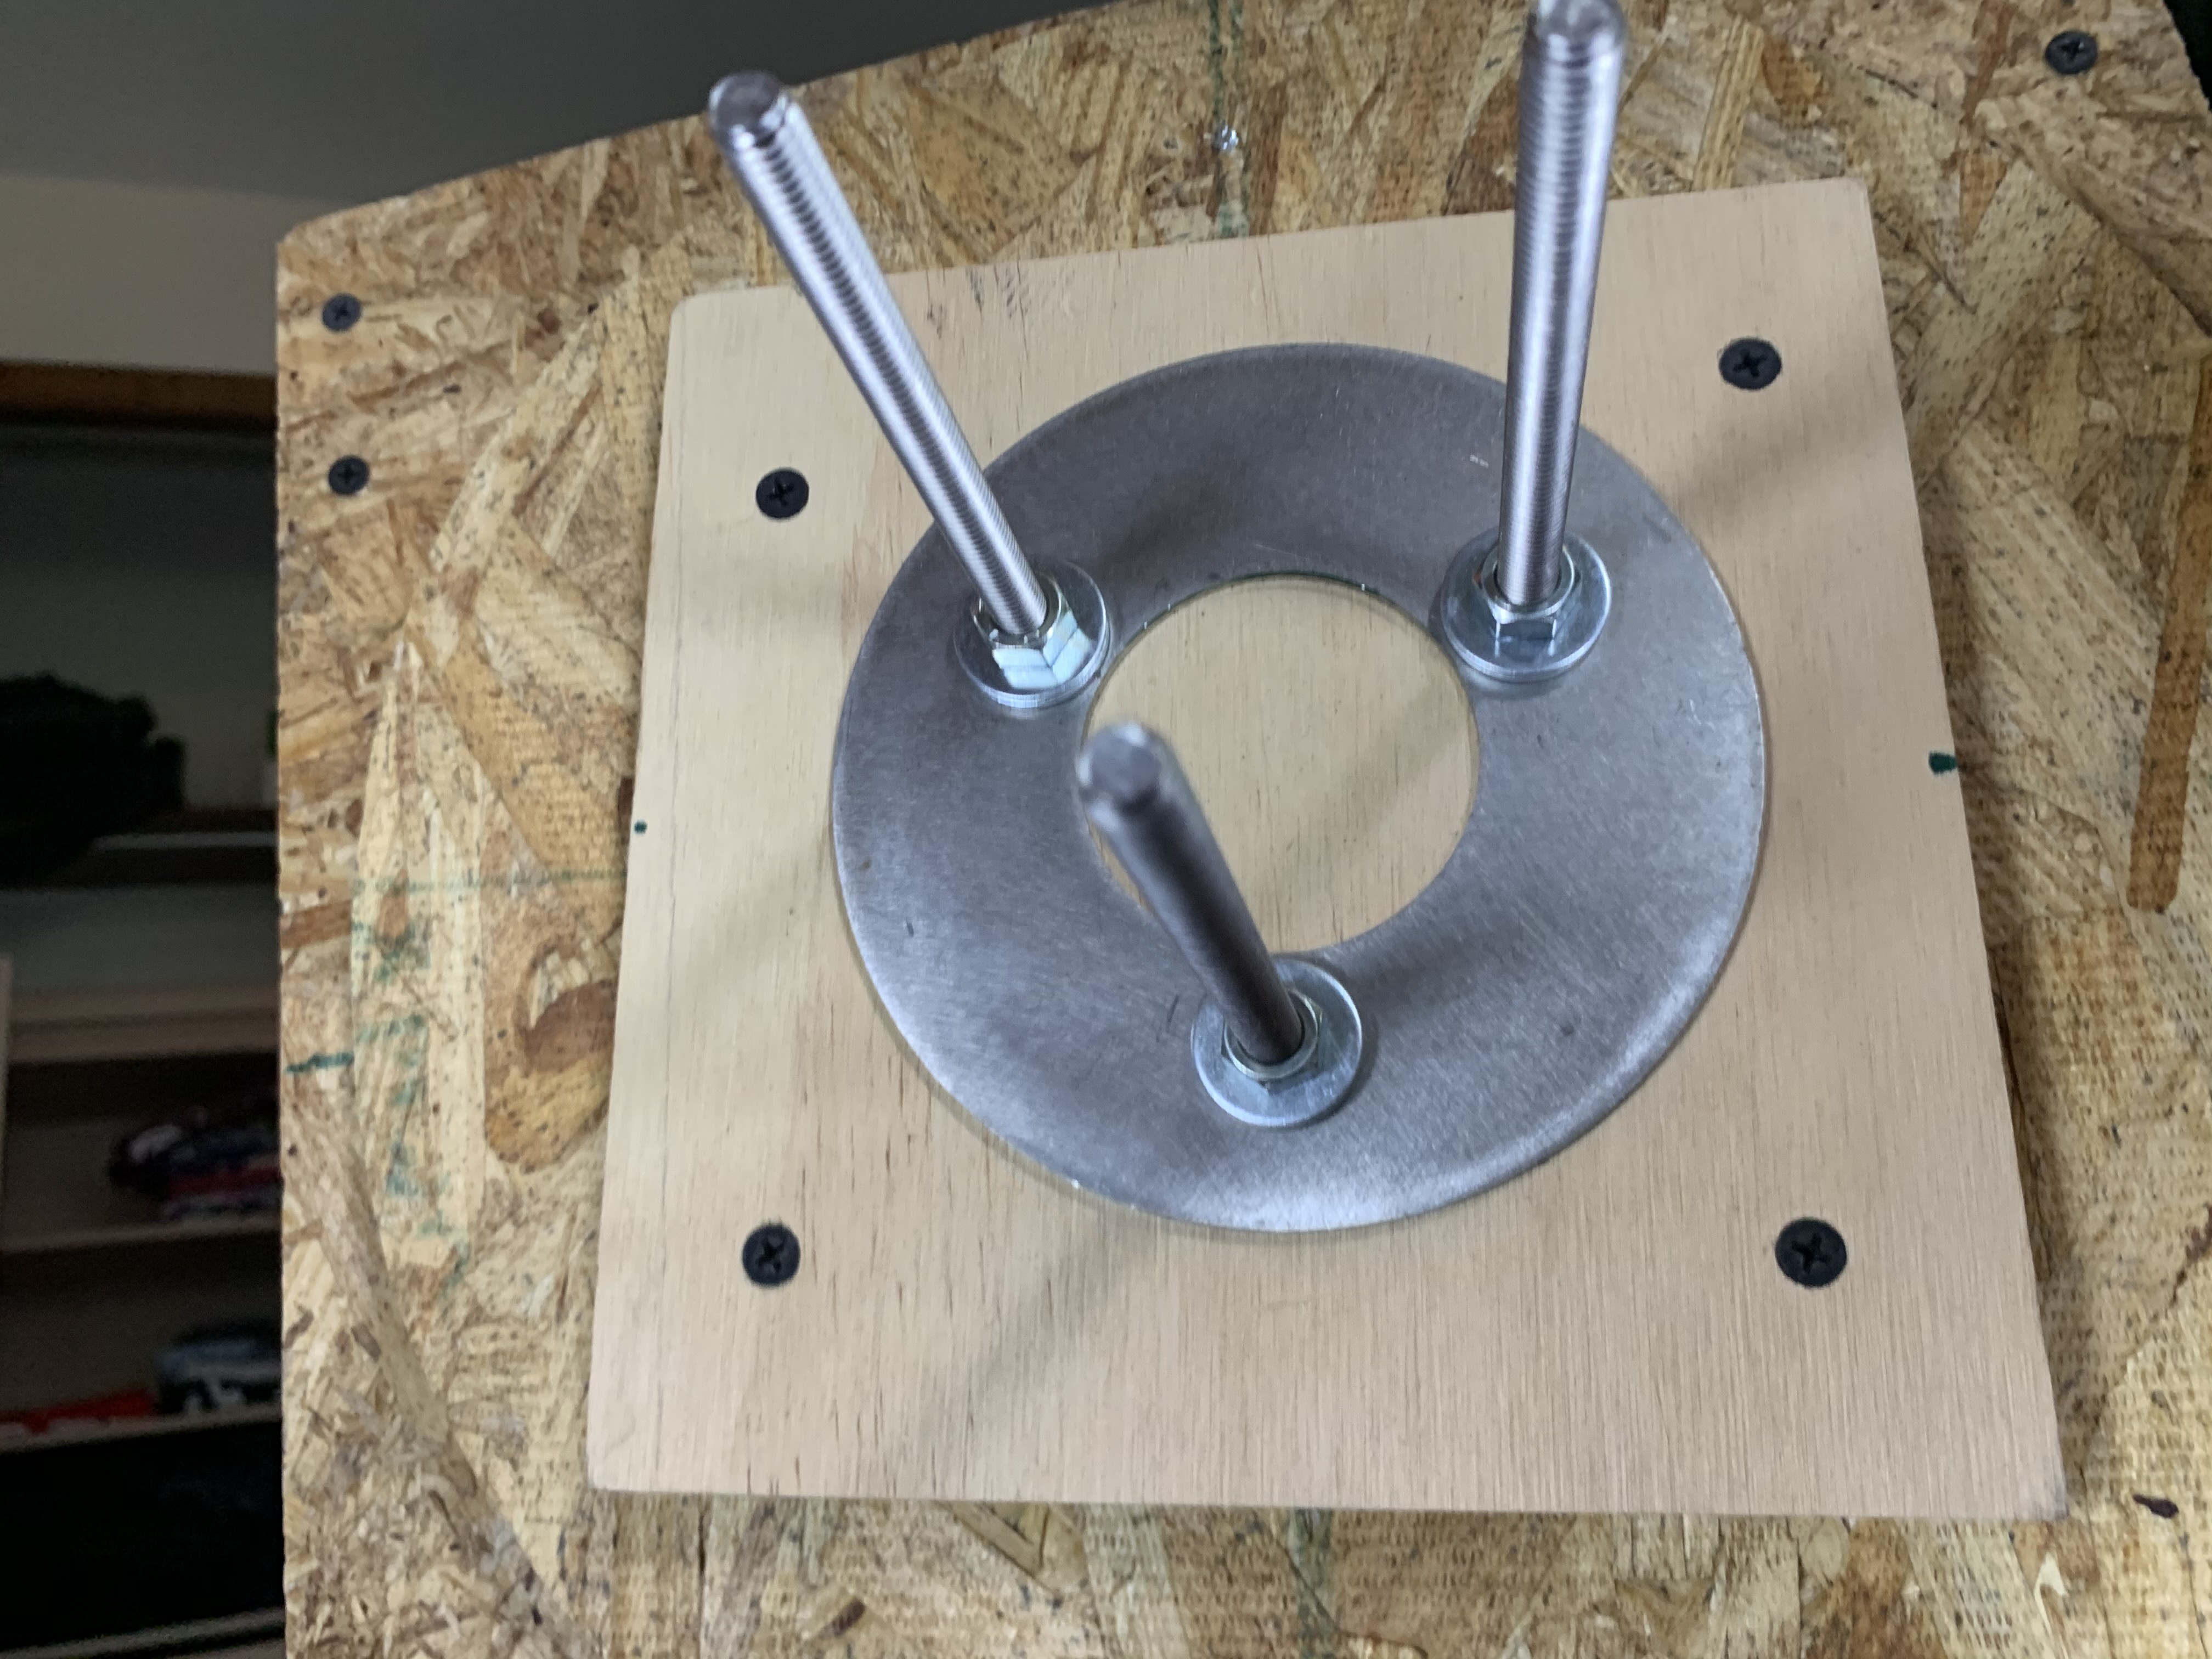bolt: (1184, 953, 1371, 1136), (1432, 525, 1618, 688), (951, 558, 1103, 708)
